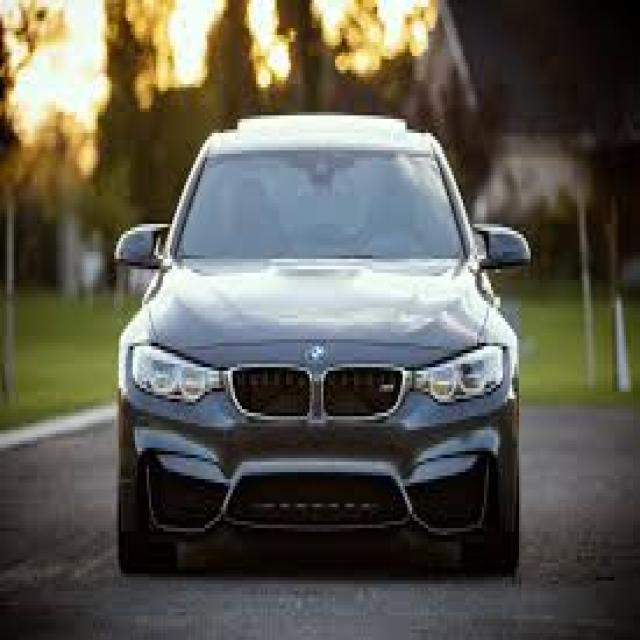Car: (112, 110, 534, 582)
